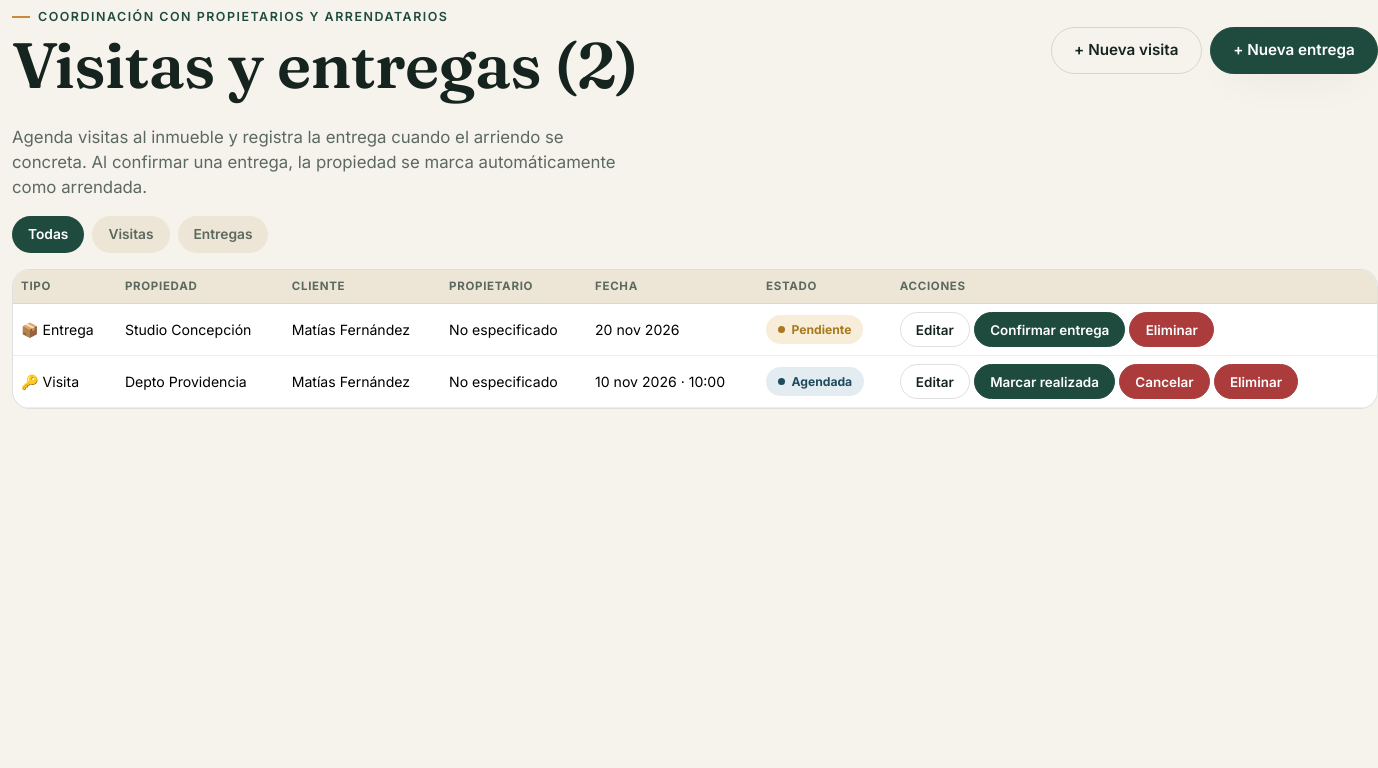
Test: Visitas y entregas › confirmar una entrega marca la propiedad como arrendada
The width and height of the screenshot is (1378, 768).
Step 1. Click the button "Confirmar entrega" → (1050, 330), box [974, 312, 1126, 347]
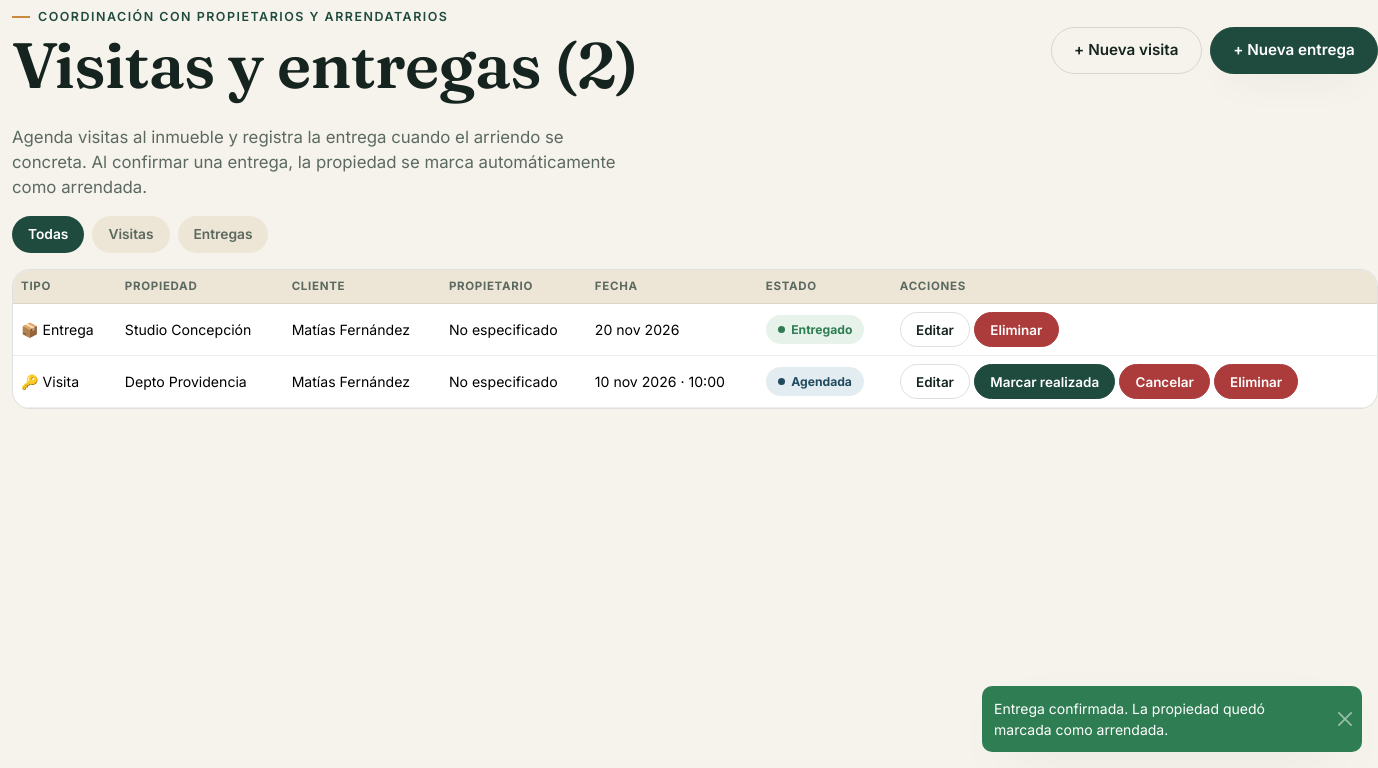
Now the text "Entregado" is shown, box [766, 316, 864, 344]
